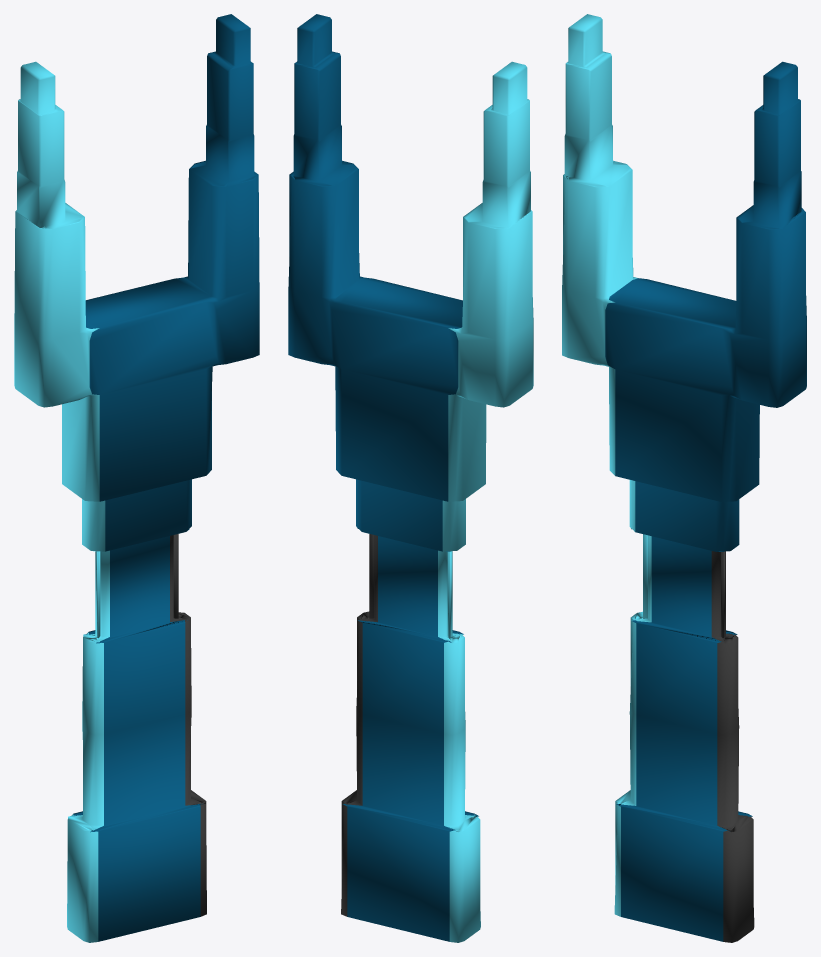
File: STEAK FORK.FBX
3 renders of one model, left to right at view 1: azimuth 30°, elevation 25°; view 2: azimuth 150°, elevation 25°; view 3: azimuth 330°, elevation 25°, orthographic.
Parts seen in each view (by area): view 1: Box008; view 2: Box008; view 3: Box008.
Boxes of the visible parts, x1,y1,x2,y2 form: Box008: (14,14,259,942); Box008: (288,14,533,942); Box008: (562,14,806,942).
Size of the model in its own units: 137 by 521 by 34.5.
